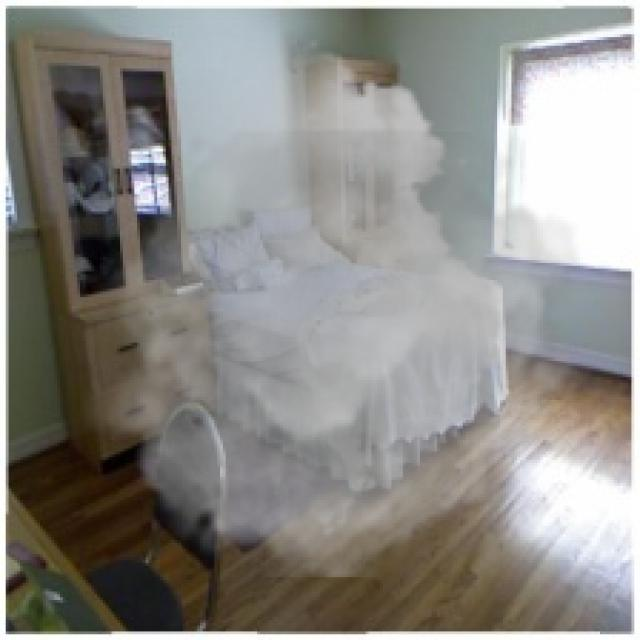smoke: (80, 40, 597, 577)
